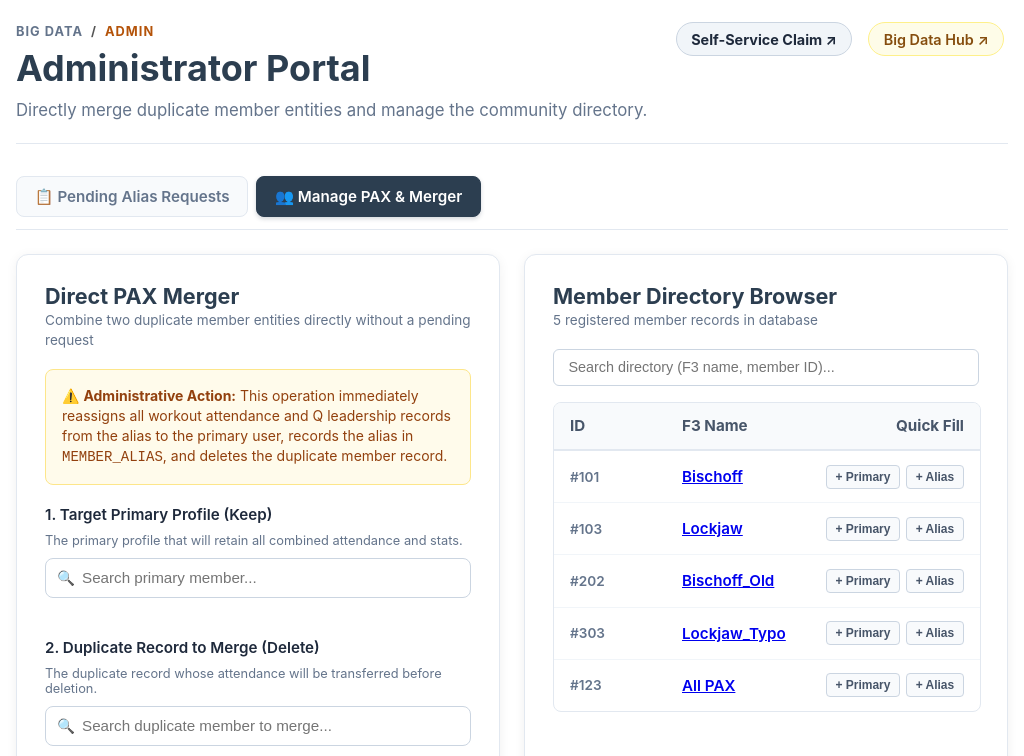
Test: Admin Portal Components › AdminManagePax Component › populates form with quick-fill buttons and executes direct merge
Expected: the text "5 registered member records in database" is shown, x1=553 y1=312 x2=818 y2=328
// Quick fill Primary (Bischoff)
Click the button "+ Primary" in the row of "101": (863, 476) x1=826 y1=464 x2=900 y2=488
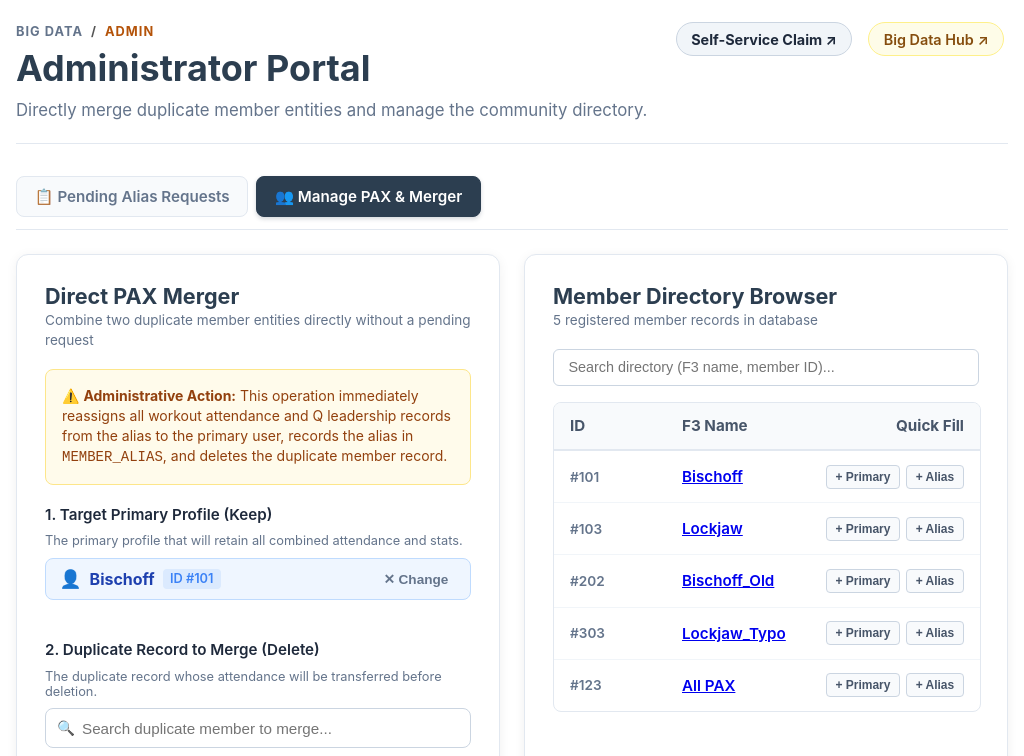
// Quick fill Alias (Bischoff_Old)
Click the button "+ Alias" in the row of "202": (935, 581) x1=906 y1=569 x2=964 y2=593
(page scrolled)
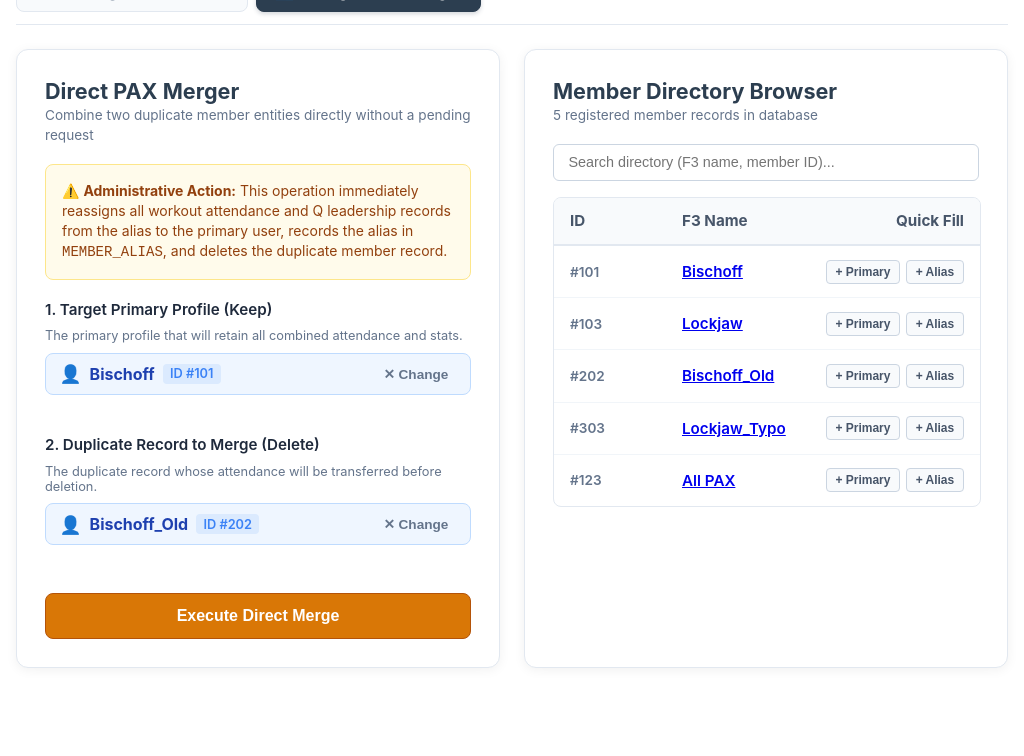
Expected: the text "#101" is shown, x1=554 y1=245 x2=666 y2=298
Expected: the text "#202" is shown, x1=554 y1=350 x2=666 y2=402
// Click Execute Direct Merge
Click the button "Execute Direct Merge": (258, 616) x1=45 y1=593 x2=471 y2=639
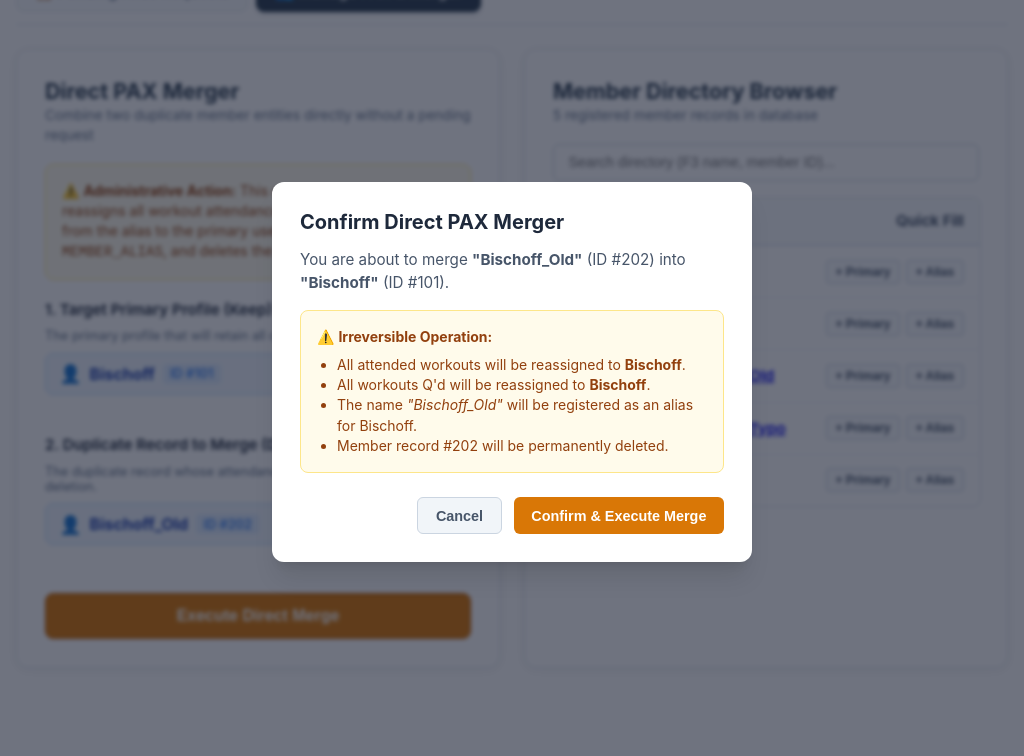
Expected: the heading "Confirm Direct PAX Merger" is shown, x1=300 y1=210 x2=564 y2=234
// Confirm merge
Click the button "Confirm & Execute Merge": (619, 516) x1=514 y1=497 x2=724 y2=534
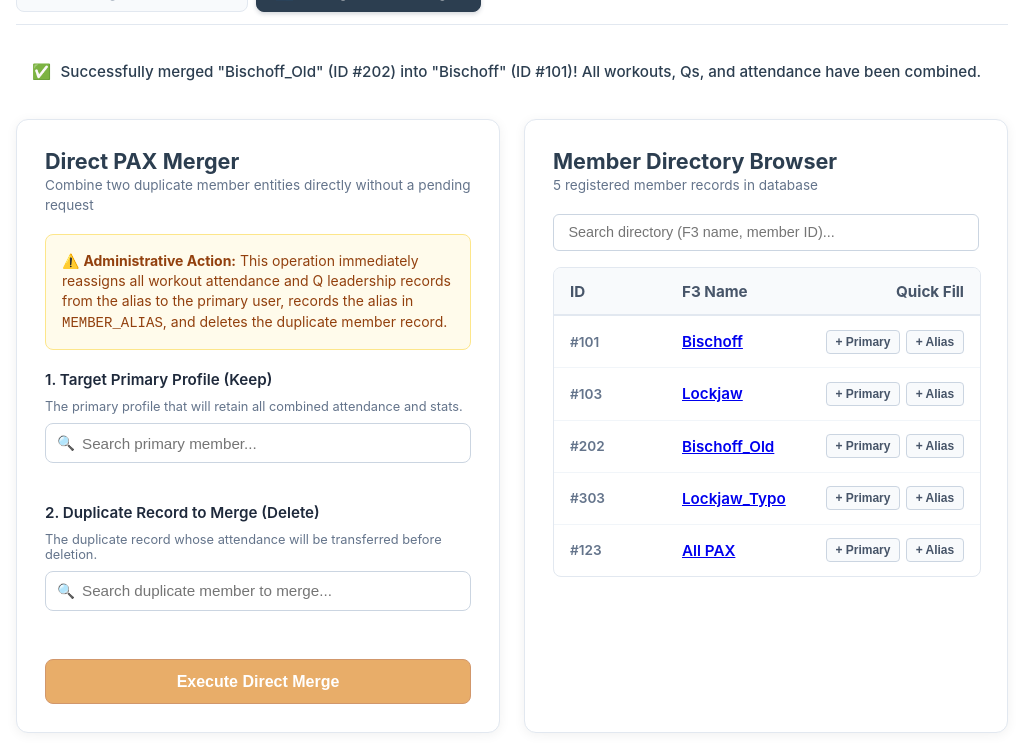
Expected: the text "Successfully merged \"Bischoff_Old\" (ID #202) into \"Bischoff\" (ID #101)!" is shown, x1=61 y1=62 x2=981 y2=81
